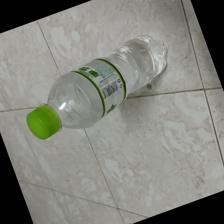Dasani: (26, 32, 172, 144)
